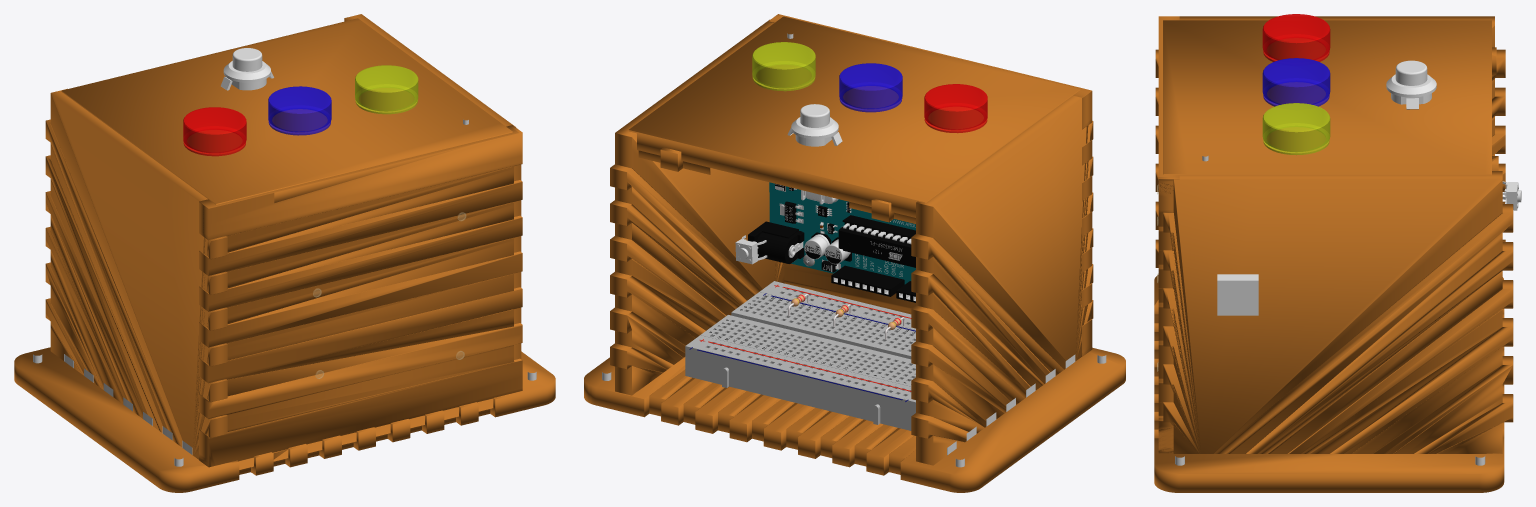
The model's file is SIN TAPA.glb.
3 views of the same model, side by side, from view 1: azimuth 30°, elevation 25°; view 2: azimuth 150°, elevation 25°; view 3: azimuth 270°, elevation 25° (orthographic). The views are drawn at different scales.
Parts seen in each view (by area): view 1: Atras pared, tapa lateral derecha, Tapa, Base, Cylinder.001, Cylinder.002, Cylinder, Curve.047, empty_2.001, Para la base; view 2: tapa lateral derecha, Tapa, Curve.047, Base, preto-material, Bolt.005_6.002, Atras pared, Cylinder.001, Cylinder.002, Cylinder, empty_2.001, Curve.084 (+3 smaller); view 3: Curve.047, Tapa, Base, Atras pared, tapa lateral derecha, Cylinder.002, Cylinder.001, Cylinder, empty_2.001, cubito fantasma, Pulsador no usar.
Part boxes in pixels (x1,y1,x2,y2): Atras pared: (199,125,522,469); tapa lateral derecha: (45,88,227,459); Tapa: (61,18,512,204); Base: (14,347,555,492); Cylinder.001: (268,86,331,135); Cylinder.002: (355,65,418,114); Cylinder: (183,107,246,156); Curve.047: (344,14,521,359); empty_2.001: (221,48,273,90); Para la base: (33,354,536,466); tapa lateral derecha: (911,95,1093,465); Tapa: (628,16,1080,217); Curve.047: (610,19,784,395); Base: (584,285,1125,492); preto-material: (685,281,915,430); Bolt.005_6.002: (748,182,915,302); Atras pared: (768,14,1092,356); Cylinder.001: (839,63,902,112); Cylinder.002: (752,42,815,91); Cylinder: (924,84,987,133); empty_2.001: (787,104,842,204); Curve.084: (638,147,710,174); Curve.047: (1163,171,1513,453); Tapa: (1163,20,1491,175); Base: (1154,275,1504,492); Atras pared: (1158,16,1179,453); tapa lateral derecha: (1155,16,1505,267); Cylinder.002: (1262,103,1330,155); Cylinder.001: (1262,58,1330,106); Cylinder: (1262,14,1330,61); empty_2.001: (1386,60,1436,109); cubito fantasma: (1217,274,1258,315); Pulsador no usar: (1502,181,1521,210).
Bounding box in the file's own units: 0.1382 × 0.1036 × 0.1052.
